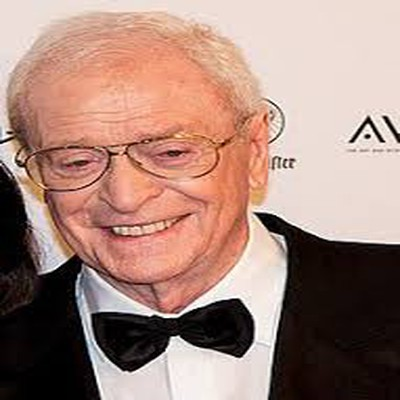eywear: (2, 97, 244, 190)
